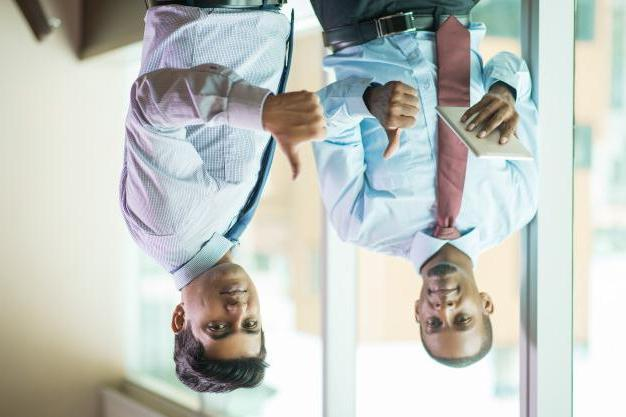thumbsdown: (285, 91, 329, 182), (383, 81, 420, 160)
